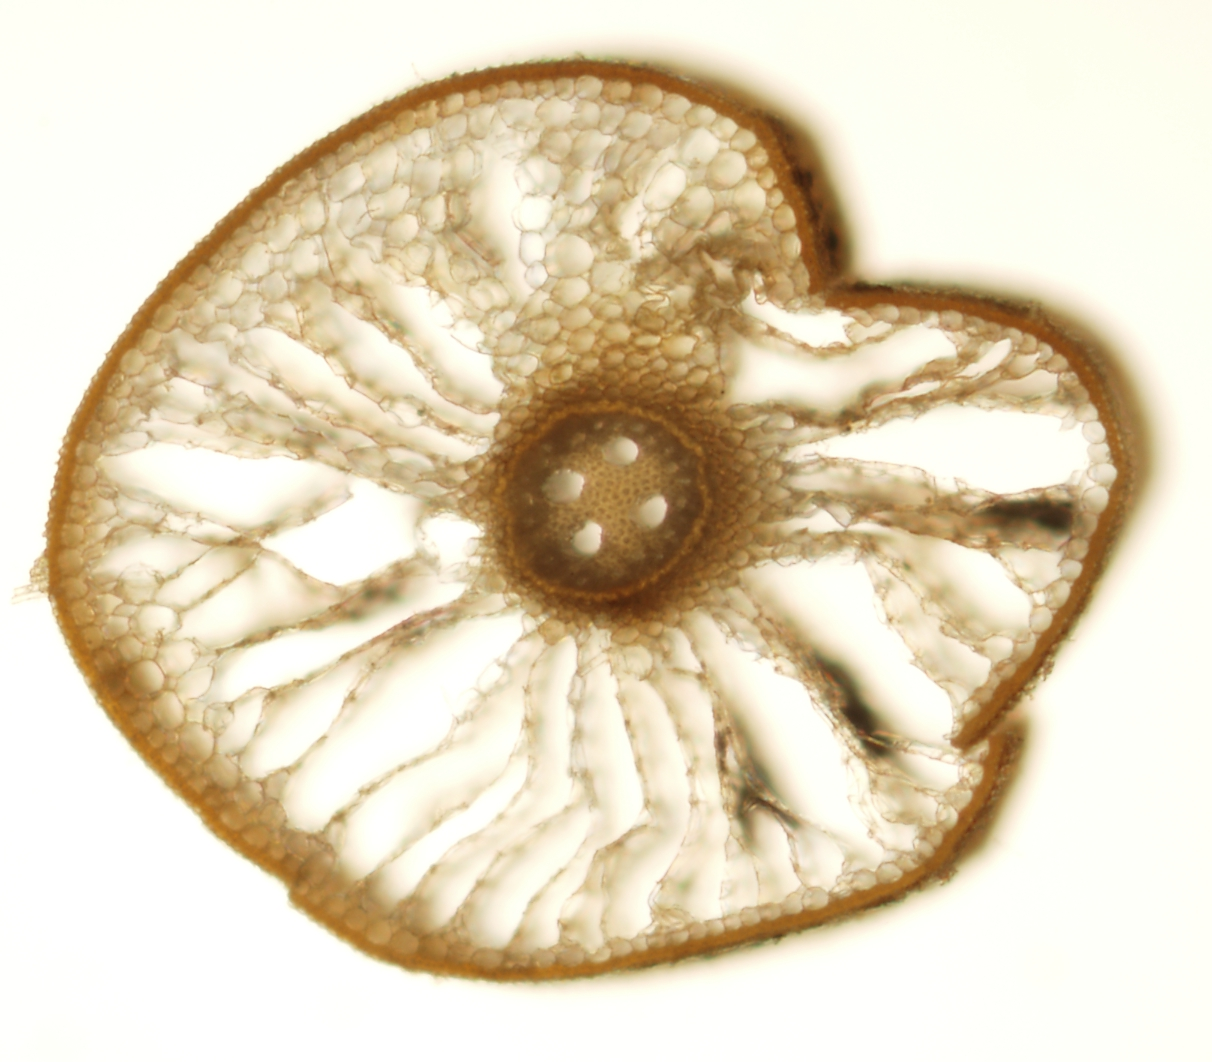root: (69, 73, 1134, 972)
stele: (495, 394, 712, 607)
